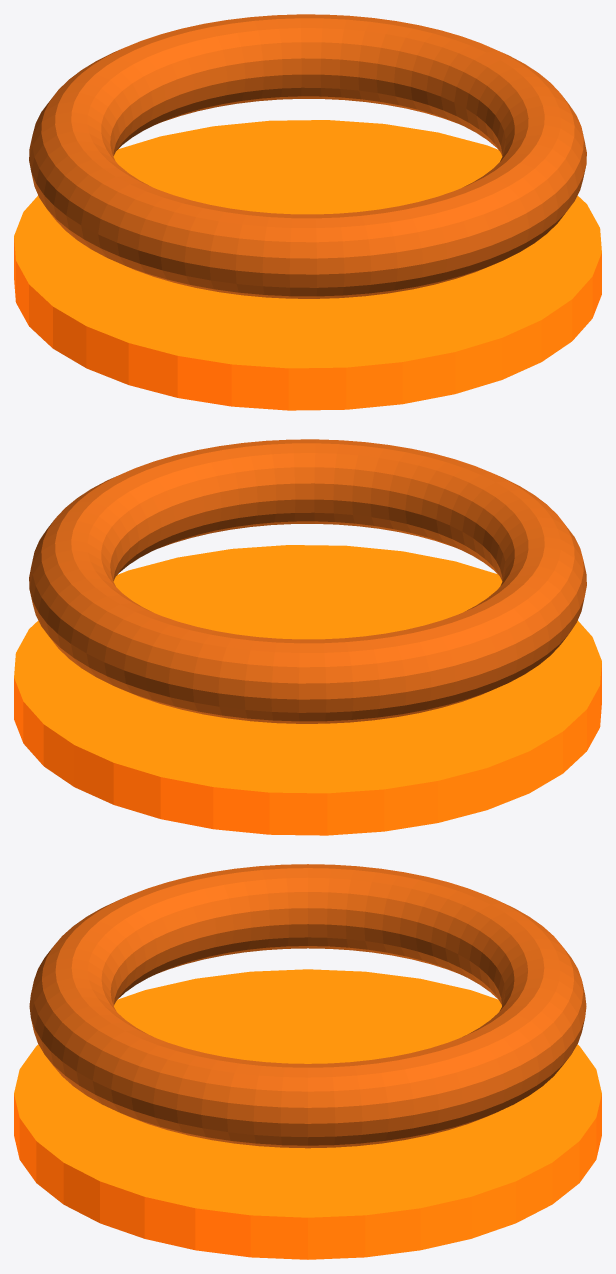
File: fitness_fitness_band.dae
3 views of the same model, one above another, from view 1: azimuth 30°, elevation 25°; view 2: azimuth 150°, elevation 25°; view 3: azimuth 270°, elevation 25° (orthographic).
Visible parts, largest first — view 1: 02_12_Popular_Fitness_Fitness_Band_ROOT_base, 02_12_Popular_Fitness_Fitness_Band_part_01; view 2: 02_12_Popular_Fitness_Fitness_Band_ROOT_base, 02_12_Popular_Fitness_Fitness_Band_part_01; view 3: 02_12_Popular_Fitness_Fitness_Band_ROOT_base, 02_12_Popular_Fitness_Fitness_Band_part_01.
Part boxes in pixels (x1,y1,x2,y2): 02_12_Popular_Fitness_Fitness_Band_ROOT_base: [14, 120, 601, 410]; 02_12_Popular_Fitness_Fitness_Band_part_01: [29, 14, 586, 298]; 02_12_Popular_Fitness_Fitness_Band_ROOT_base: [14, 545, 601, 835]; 02_12_Popular_Fitness_Fitness_Band_part_01: [29, 439, 586, 723]; 02_12_Popular_Fitness_Fitness_Band_ROOT_base: [14, 969, 601, 1259]; 02_12_Popular_Fitness_Fitness_Band_part_01: [29, 864, 586, 1148].
Bounding box in the file's own units: 0.76 × 0.2391 × 0.76.
